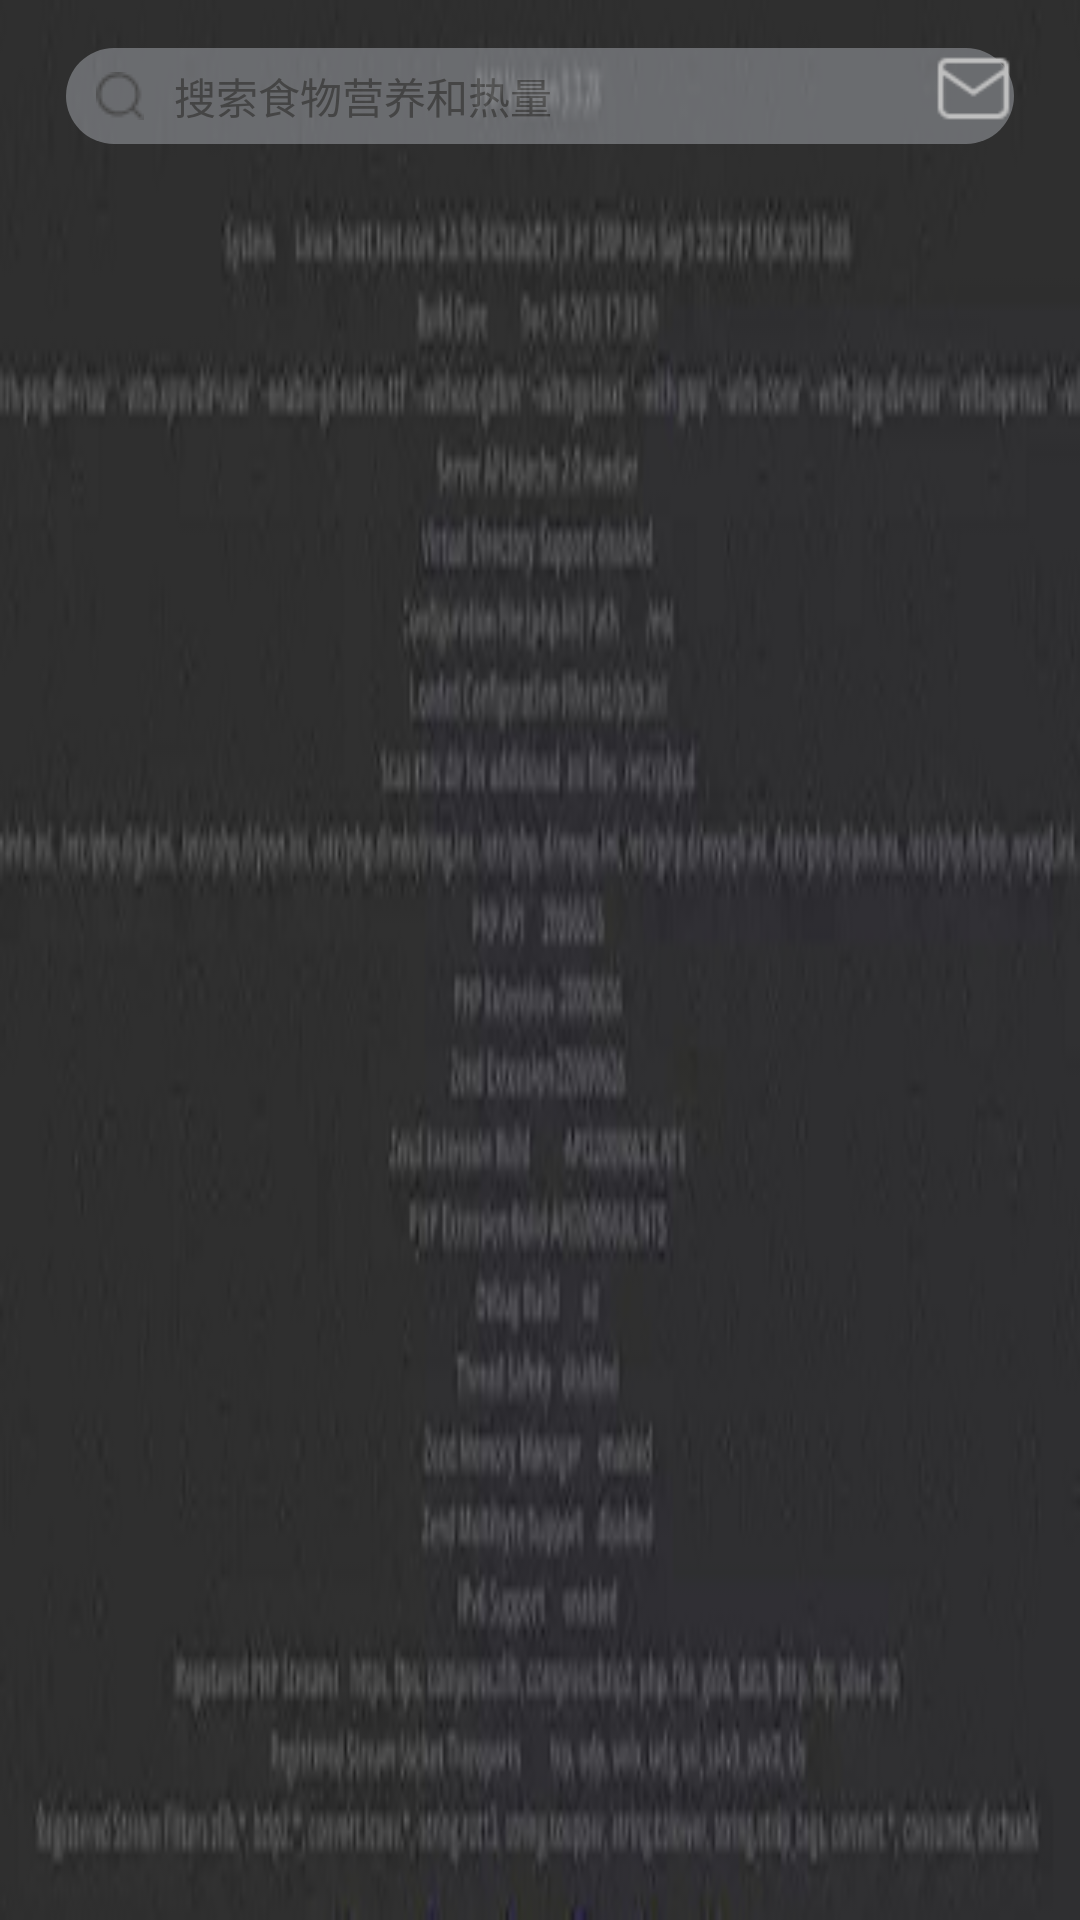

Icon click points for this 1080*1920 phone screenshot, format point (x, y):
quickfit host message: point (973, 88)
